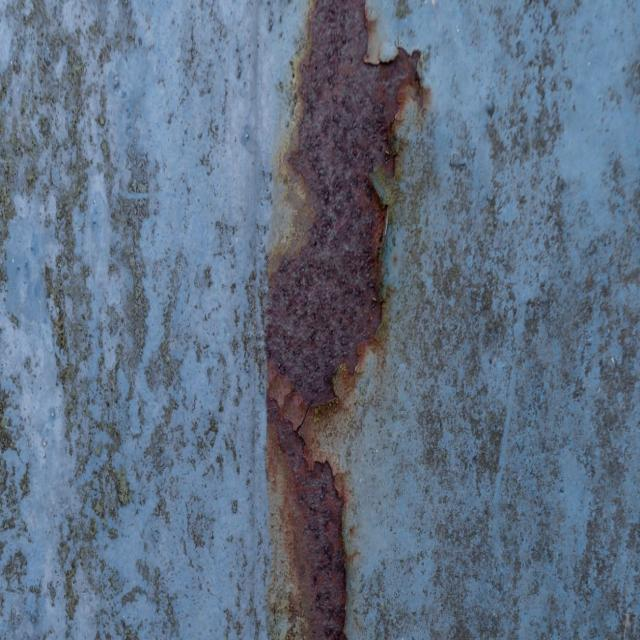Pitting Corrosion: (266, 0, 417, 404), (268, 399, 346, 639)
